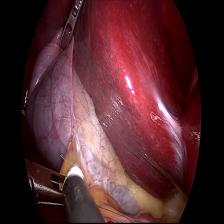Grasper: (26, 155, 65, 213), (55, 1, 86, 64)
Hook: (58, 148, 86, 190)
